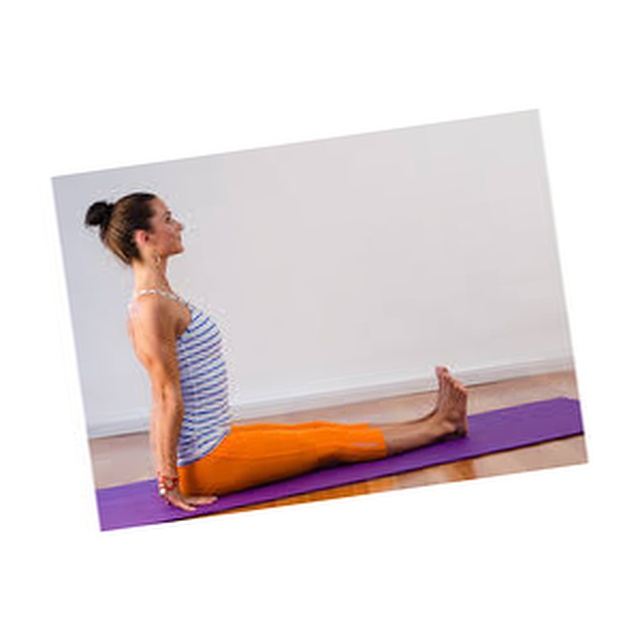Staff_Pose: (85, 193, 469, 513)
